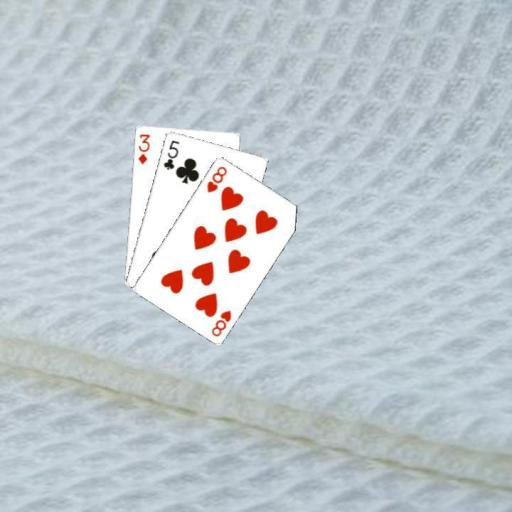3D: (135, 131, 152, 166)
5C: (160, 137, 181, 171)
8H: (209, 306, 233, 338), (204, 163, 229, 193)
